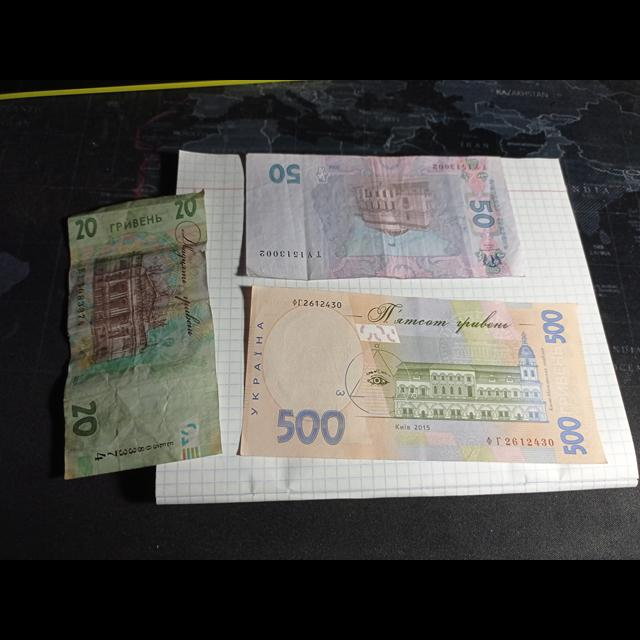20uah: (65, 188, 222, 479)
500uah: (239, 284, 607, 466)
50uah: (244, 153, 528, 279)
